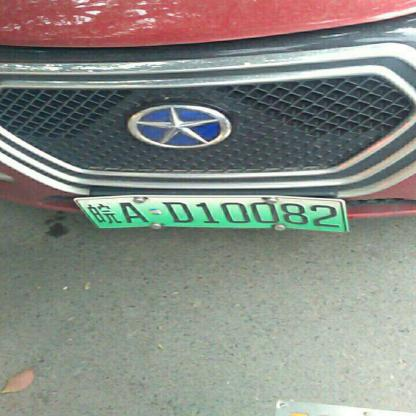lp: (74, 197, 348, 232)
